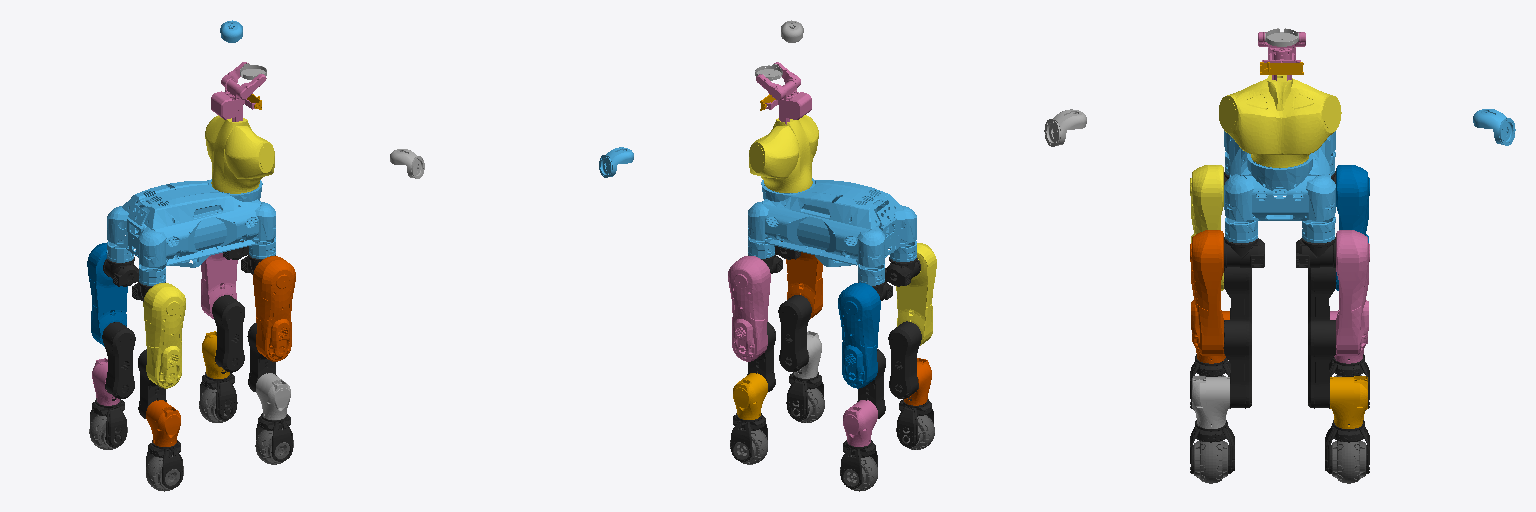
--- What the picture shows (computed from the rendered views, not written in the file) ---
3 views of the same robot in one strip: view 1: azimuth 30°, elevation 25°; view 2: azimuth 150°, elevation 25°; view 3: azimuth 270°, elevation 25° (orthographic).
Robot: centauro — 64 links, 63 joints (39 revolute, 4 continuous, 3 prismatic, 16 fixed, 1 floating); root link world; default pose: joints at zero except 2 at the middle of their limits (j_arm1_2 = 1.73, j_arm2_2 = -1.72).
Links seen in each view (by area): view 1: pelvis, torso_2, hip2_2, hip2_4, hip2_3, knee_1, knee_3, hip2_1, neck_1, ankle1_4, ankle1_2, ankle2_3 (+13 smaller); view 2: pelvis, torso_2, hip2_3, hip2_1, hip2_4, knee_4, knee_2, hip2_2, neck_1, ankle1_3, ankle1_1, ankle2_4 (+13 smaller); view 3: pelvis, torso_2, hip2_1, hip2_2, knee_1, knee_2, hip2_3, hip2_4, ankle1_1, ankle1_2, wheel_1, wheel_2 (+12 smaller).
Boxes of the visible links, box(x1,y1,x2,y2) form: pelvis: box(107, 179, 275, 285); torso_2: box(205, 115, 274, 193); hip2_2: box(253, 256, 295, 361); hip2_4: box(143, 283, 185, 388); hip2_3: box(87, 243, 127, 346); knee_1: box(212, 295, 244, 372); knee_3: box(102, 322, 135, 398); hip2_1: box(201, 253, 237, 318); neck_1: box(211, 62, 266, 121); ankle1_4: box(146, 400, 180, 446); ankle1_2: box(256, 373, 290, 419); ankle2_3: box(90, 397, 126, 447); pelvis: box(748, 178, 916, 285); torso_2: box(749, 115, 818, 192); hip2_3: box(838, 282, 880, 388); hip2_1: box(728, 256, 770, 361); hip2_4: box(896, 243, 936, 345); knee_4: box(888, 321, 921, 398); knee_2: box(778, 295, 811, 371); hip2_2: box(786, 252, 822, 318); neck_1: box(756, 62, 811, 124); ankle1_3: box(843, 400, 877, 446); ankle1_1: box(733, 373, 767, 419); ankle2_4: box(897, 397, 933, 447); pelvis: box(1224, 131, 1335, 242); torso_2: box(1219, 75, 1341, 167); hip2_1: box(1336, 230, 1369, 355); hip2_2: box(1190, 230, 1223, 355); knee_1: box(1308, 320, 1335, 408); knee_2: box(1224, 320, 1251, 408); hip2_3: box(1336, 165, 1369, 290); hip2_4: box(1190, 165, 1223, 290); ankle1_1: box(1330, 376, 1367, 428); ankle1_2: box(1192, 376, 1229, 428); wheel_1: box(1332, 441, 1365, 483); wheel_2: box(1194, 441, 1227, 483).
Bounding box of the posed robot: 0.9762 × 1.52 × 1.62 m (x, y, z).
31 mesh visuals loaded from 21 distinct referenced files (12 binary STL); not drawn: 15 (reference not matched to a file when rendering).

robot.urdf — centauro:
<?xml version="1.0" ?>
<robot name="centauro" version="1.0">
  <material name="black">
    <color rgba="0.4 0.4 0.4 1.0"/>
  </material>
  <material name="dark">
    <color rgba="0.1 0.1 0.1 1.0"/>
  </material>
  <material name="dark_grey">
    <color rgba="0.2 0.2 0.2 1.0"/>
  </material>
  <link name="base_link"/>
  <link name="pelvis">
    <inertial>
      <origin xyz="-0.0016320207 0.0026534004000000003 0.079167428" rpy="0 0 0"/>
      <mass value="26.584529"/>
      <inertia ixx="0.39195477" ixy="0.024781258999999996" ixz="0.017108606999999998" iyy="1.0000708999999999" iyz="0.0052627106000000005" izz="1.0679988999999999"/>
    </inertial>
    <visual>
      <origin xyz="0.0 0.0 0.0" rpy="0.0 0.0 0.0"/>
      <geometry>
        <mesh filename="package://centauro_urdf/meshes/v2/pelvis.stl" scale="0.001 0.001 0.001"/>
      </geometry>
    </visual>
    <collision>
      <origin xyz="-0.005084999999999992 2.00284e-07 0.03057945" rpy="3.141584708121066 1.5478729636744712 3.14158452386424"/>
      <geometry>
        <cylinder radius="0.213204" length="0.38594139791384763"/>
      </geometry>
    </collision>
    <collision>
      <origin xyz="-0.198005 0.000000 0.035003" rpy="3.141584708121066 1.5478729636744712 3.14158452386424"/>
      <geometry>
        <sphere radius="0.213204"/>
      </geometry>
    </collision>
    <collision>
      <origin xyz="0.187835 0.000000 0.026156" rpy="3.141584708121066 1.5478729636744712 3.14158452386424"/>
      <geometry>
        <sphere radius="0.213204"/>
      </geometry>
    </collision>
  </link>
  <link name="imu_link"/>
  <joint name="imu_joint" type="fixed">
    <origin xyz="0.248316 0.0 0.015" rpy="0.0 0.0 0.0"/>
    <parent link="pelvis"/>
    <child link="imu_link"/>
  </joint>
  <joint name="base_joint" type="fixed">
    <origin xyz="0.0 0.0 0.0" rpy="0.0 0.0 0.0"/>
    <parent link="pelvis"/>
    <child link="base_link"/>
  </joint>
  <link name="torso_2">
    <inertial>
      <origin xyz="-0.019497794 0.0045317835 0.13768283" rpy="0 0 0"/>
      <mass value="12.553731"/>
      <inertia ixx="0.063643392" ixy="8.939e-05" ixz="-0.00086873" iyy="0.02680235" iyz="-4.657e-05" izz="0.04743015"/>
    </inertial>
    <visual>
      <origin xyz="0.0 0.0 0.0" rpy="0.0 0.0 0.0"/>
      <geometry>
        <mesh filename="package://centauro_urdf/meshes/link1_no_head.stl" scale="0.001 0.001 0.001"/>
      </geometry>
    </visual>
    <collision>
      <origin xyz="-3.2165000000000015e-05 9.785000000000002e-05 0.07465275" rpy="1.5666391113102787 -0.01588146658428072 -0.0158155835137567"/>
      <geometry>
        <cylinder radius="0.158224" length="0.09543675990850982"/>
      </geometry>
    </collision>
    <collision>
      <origin xyz="0.000726 0.047810 0.074454" rpy="1.5666391113102787 -0.01588146658428072 -0.0158155835137567"/>
      <geometry>
        <sphere radius="0.158224"/>
      </geometry>
    </collision>
    <collision>
      <origin xyz="-0.000790 -0.047614 0.074851" rpy="1.5666391113102787 -0.01588146658428072 -0.0158155835137567"/>
      <geometry>
        <sphere radius="0.158224"/>
      </geometry>
    </collision>
  </link>
  <joint name="torso_yaw" type="revolute">
    <origin xyz="0.2 0.0 0.256" rpy="0 0 0"/>
    <axis xyz="0.0 0.0 1.0"/>
    <parent link="pelvis"/>
    <child link="torso_2"/>
    <limit effort="147.0" lower="-2.618" upper="2.618" velocity="5.7"/>
  </joint>
  <link name="arm1_1">
    <inertial>
      <origin xyz="-0.0074457212 0.03410796 0.00010978102" rpy="0 0 0"/>
      <mass value="1.9628675"/>
      <inertia ixx="0.0053547717" ixy="0.00036428926" ixz="1.5089568e-05" iyy="0.0033923328" iyz="5.5692312e-05" izz="0.0068921413"/>
    </inertial>
    <visual>
      <origin xyz="0.0 0.0 0.0" rpy="0.0 0.0 0.0"/>
      <geometry>
        <mesh filename="package://centauro_urdf/meshes/ShoulderPitch.STL" scale="0.001 -0.001 0.001"/>
      </geometry>
      <material name="dark_grey"/>
    </visual>
    <collision>
      <origin xyz="0.017831411999999998 0.05324115 2.3169000000000008e-05" rpy="-1.6903347176271586 1.4526491831510902 -1.5721974565036339"/>
      <geometry>
        <cylinder radius="0.0698859" length="0.03739768494560427"/>
      </geometry>
    </collision>
    <collision>
      <origin xyz="-0.000737 0.051053 0.000286" rpy="-1.6903347176271586 1.4526491831510902 -1.5721974565036339"/>
      <geometry>
        <sphere radius="0.0698859"/>
      </geometry>
    </collision>
    <collision>
      <origin xyz="0.036400 0.055429 -0.000240" rpy="-1.6903347176271586 1.4526491831510902 -1.5721974565036339"/>
      <geometry>
        <sphere radius="0.0698859"/>
      </geometry>
    </collision>
  </link>
  <link name="arm1_2">
    <inertial>
      <origin xyz="0.058142302 5.7450803e-05 -0.077477683" rpy="0 0 0"/>
      <mass value="1.8595811"/>
      <inertia ixx="0.013776643" ixy="3.7788675e-05" ixz="0.0037690171" iyy="0.015677464" iyz="-9.4893549e-06" izz="0.0046317657"/>
    </inertial>
    <visual>
      <origin xyz="0.0 0.0 0.0" rpy="0.0 0.0 0.0"/>
      <geometry>
        <mesh filename="package://centauro_urdf/meshes/ShoulderRoll.STL" scale="0.001 -0.001 0.001"/>
      </geometry>
    </visual>
    <collision>
      <origin xyz="0.0637382 4.0379999999999995e-07 -0.064359175" rpy="3.141581408692036 0.43013736369295724 3.141541177080914"/>
      <geometry>
        <cylinder radius="0.0700645" length="0.12799269981445732"/>
      </geometry>
    </collision>
    <collision>
      <origin xyz="0.037052 0.000001 -0.006192" rpy="3.141581408692036 0.43013736369295724 3.141541177080914"/>
      <geometry>
        <sphere radius="0.0700645"/>
      </geometry>
    </collision>
    <collision>
      <origin xyz="0.090424 -0.000000 -0.122526" rpy="3.141581408692036 0.43013736369295724 3.141541177080914"/>
      <geometry>
        <sphere radius="0.0700645"/>
      </geometry>
    </collision>
  </link>
  <link name="arm1_3">
    <inertial>
      <origin xyz="0.014625194 0.0008172672 -0.028333545" rpy="0 0 0"/>
      <mass value="1.6678109"/>
      <inertia ixx="0.0064480435" ixy="-0.00015639093" ixz="0.0012205359" iyy="0.0073372077" iyz="8.9941532e-05" izz="0.0036738448"/>
    </inertial>
    <visual>
      <origin xyz="0.0 0.0 0.0" rpy="0.0 0.0 0.0"/>
      <geometry>
        <mesh filename="package://centauro_urdf/meshes/ShoulderYaw.STL" scale="0.001 -0.001 0.001"/>
      </geometry>
      <material name="dark_grey"/>
    </visual>
    <collision>
      <origin xyz="0.0073075385949999995 -0.0040911384949999996 -0.03662884" rpy="3.0024238046134086 0.2429098209130052 2.103907539504161"/>
      <geometry>
        <cylinder radius="0.0896121" length="0.06082252644344949"/>
      </geometry>
    </collision>
    <collision>
      <origin xyz="-0.000007 0.000004 -0.007396" rpy="3.0024238046134086 0.2429098209130052 2.103907539504161"/>
      <geometry>
        <sphere radius="0.0896121"/>
      </geometry>
    </collision>
    <collision>
      <origin xyz="0.014622 -0.008186 -0.065862" rpy="3.0024238046134086 0.2429098209130052 2.103907539504161"/>
      <geometry>
        <sphere radius="0.0896121"/>
      </geometry>
    </collision>
  </link>
  <link name="arm1_4">
    <inertial>
      <origin xyz="-0.0076833067 -0.040302205 -0.043492779" rpy="0 0 0"/>
      <mass value="1.3157289"/>
      <inertia ixx="0.004330394" ixy="-0.00011737391" ixz="-0.00041923199" iyy="0.0038539919" iyz="-0.00079573038" izz="0.0017594689"/>
    </inertial>
    <visual>
      <origin xyz="0.0 0.0 0.0" rpy="0.0 0.0 0.0"/>
      <geometry>
        <mesh filename="package://centauro_urdf/meshes/Elbow.STL" scale="0.001 -0.001 0.001"/>
      </geometry>
    </visual>
    <collision>
      <origin xyz="-0.00746020465 -0.0408499 -0.0404292381" rpy="-0.33854605247629793 0.17337814940326016 -0.029704070188628324"/>
      <geometry>
        <cylinder radius="0.0600429" length="0.08713418572944408"/>
      </geometry>
    </collision>
    <collision>
      <origin xyz="-0.014976 -0.055102 -0.080907" rpy="-0.33854605247629793 0.17337814940326016 -0.029704070188628324"/>
      <geometry>
        <sphere radius="0.0600429"/>
      </geometry>
    </collision>
    <collision>
      <origin xyz="0.000056 -0.026598 0.000049" rpy="-0.33854605247629793 0.17337814940326016 -0.029704070188628324"/>
      <geometry>
        <sphere radius="0.0600429"/>
      </geometry>
    </collision>
  </link>
  <link name="arm1_5">
    <inertial>
      <origin xyz="-0.00011079615 0.011590836 -0.07816026" rpy="0 0 0"/>
      <mass value="1.4908547"/>
      <inertia ixx="0.0085692128" ixy="1.7856252e-05" ixz="1.9379365e-05" iyy="0.0077454159" iyz="-0.00032860094" izz="0.0027441921"/>
    </inertial>
    <visual>
      <origin xyz="0.0 0.0 0.0" rpy="0.0 0.0 0.0"/>
      <geometry>
        <mesh filename="package://centauro_urdf/meshes/Forearm.STL" scale="0.001 -0.001 0.001"/>
      </geometry>
      <material name="dark_grey"/>
    </visual>
    <collision>
      <origin xyz="-3.7982785e-06 0.00576208 -0.08227100000000001" rpy="-0.1950499967900825 0.00010897079569875528 -1.0661198134352675e-05"/>
      <geometry>
        <cylinder radius="0.0804108" length="0.08434739747702645"/>
      </geometry>
    </collision>
    <collision>
      <origin xyz="-0.000008 -0.002412 -0.123645" rpy="-0.1950499967900825 0.00010897079569875528 -1.0661198134352675e-05"/>
      <geometry>
        <sphere radius="0.0804108"/>
      </geometry>
    </collision>
    <collision>
      <origin xyz="0.000001 0.013936 -0.040897" rpy="-0.1950499967900825 0.00010897079569875528 -1.0661198134352675e-05"/>
      <geometry>
        <sphere radius="0.0804108"/>
      </geometry>
    </collision>
  </link>
  <link name="arm1_6">
    <inertial>
      <origin xyz="-4.6502396e-06 -0.038014094 -0.069926878" rpy="0 0 0"/>
      <mass value="1.1263612"/>
      <inertia ixx="0.0051871784" ixy="2.724437e-05" ixz="2.2833496e-06" iyy="0.0048037789" iyz="-0.00072165653" izz="0.0012771388"/>
    </inertial>
    <visual>
      <origin xyz="0.0 0.0 0.0" rpy="0.0 0.0 0.0"/>
      <geometry>
        <mesh filename="package://centauro_urdf/meshes/wrist_pitch_right.stl" scale="0.001 -0.001 0.001"/>
      </geometry>
    </visual>
    <collision>
      <origin xyz="-0.0007855109 -0.028511995000000002 -0.03192399" rpy="-0.5594293097385409 -0.02095499521275571 0.006019428316027259"/>
      <geometry>
        <cylinder radius="0.0474698" length="0.07750977987441161"/>
      </geometry>
    </collision>
    <collision>
      <origin xyz="0.000027 -0.049075 -0.064764" rpy="-0.5594293097385409 -0.02095499521275571 0.006019428316027259"/>
      <geometry>
        <sphere radius="0.0474698"/>
      </geometry>
    </collision>
    <collision>
      <origin xyz="-0.001598 -0.007949 0.000916" rpy="-0.5594293097385409 -0.02095499521275571 0.006019428316027259"/>
      <geometry>
        <sphere radius="0.0474698"/>
      </geometry>
    </collision>
  </link>
  <joint name="j_arm1_1" type="revolute">
    <origin xyz="0.0457475 0.169137 0.116626" rpy="0.174533 0.0 -0.5235988"/>
    <axis xyz="0.0 1.0 0.0"/>
    <parent link="torso_2"/>
    <child link="arm1_1"/>
    <limit effort="147.0" lower="-3.312" upper="1.615" velocity="3.86"/>
  </joint>
  <joint name="j_arm1_2" type="revolute">
    <origin xyz="-0.09015 0.062 0.0" rpy="-0.1745327 0.0 0.0"/>
    <axis xyz="1.0 0.0 0.0"/>
    <parent link="arm1_1"/>
    <child link="arm1_2"/>
    <limit effort="147.0" lower="0.02" upper="3.431" velocity="3.86"/>
  </joint>
  <joint name="j_arm1_3" type="revolute">
    <origin xyz="0.09015 0.0 -0.21815" rpy="0 0 0"/>
    <axis xyz="0.0 0.0 1.0"/>
    <parent link="arm1_2"/>
    <child link="arm1_3"/>
    <limit effort="147.0" lower="-2.552" upper="2.566" velocity="6.06"/>
  </joint>
  <joint name="j_arm1_4" type="revolute">
    <origin xyz="0.045 0.05515 -0.074" rpy="0 0 0"/>
    <axis xyz="0.0 1.0 0.0"/>
    <parent link="arm1_3"/>
    <child link="arm1_4"/>
    <limit effort="147.0" lower="-2.465" upper="0.28" velocity="6.06"/>
  </joint>
  <joint name="j_arm1_5" type="revolute">
    <origin xyz="-0.015 -0.05515 -0.095" rpy="0 0 0"/>
    <axis xyz="0.0 0.0 1.0"/>
    <parent link="arm1_4"/>
    <child link="arm1_5"/>
    <limit effort="55.0" lower="-2.569" upper="2.562" velocity="11.72"/>
  </joint>
  <joint name="j_arm1_6" type="revolute">
    <origin xyz="0.0 0.049 -0.156" rpy="0 0 0"/>
    <axis xyz="0.0 1.0 0.0"/>
    <parent link="arm1_5"/>
    <child link="arm1_6"/>
    <limit effort="55.0" lower="-1.529" upper="1.509" velocity="11.72"/>
  </joint>
  <link name="arm2_1">
    <inertial>
      <origin xyz="-0.0074457212 -0.03410796 0.00010978102" rpy="0 0 0"/>
      <mass value="1.9628675"/>
      <inertia ixx="0.0053547717" ixy="-0.00036428926" ixz="1.5089568e-05" iyy="0.0033923328" iyz="-5.5692312e-05" izz="0.0068921413"/>
    </inertial>
    <visual>
      <origin xyz="0.0 0.0 0.0" rpy="0.0 0.0 0.0"/>
      <geometry>
        <mesh filename="package://centauro_urdf/meshes/ShoulderPitch.STL" scale="0.001 0.001 0.001"/>
      </geometry>
      <material name="dark_grey"/>
    </visual>
    <collision>
      <origin xyz="0.017831411999999998 -0.05324115 2.3169000000000008e-05" rpy="1.6903347176271586 1.4526491831510902 1.5721974565036339"/>
      <geometry>
        <cylinder radius="0.0698859" length="0.03739768494560427"/>
      </geometry>
    </collision>
    <collision>
      <origin xyz="-0.000737 -0.051053 0.000286" rpy="1.6903347176271586 1.4526491831510902 1.5721974565036339"/>
      <geometry>
        <sphere radius="0.0698859"/>
      </geometry>
    </collision>
    <collision>
      <origin xyz="0.036400 -0.055429 -0.000240" rpy="1.6903347176271586 1.4526491831510902 1.5721974565036339"/>
      <geometry>
        <sphere radius="0.0698859"/>
      </geometry>
    </collision>
  </link>
  <link name="arm2_2">
    <inertial>
      <origin xyz="0.058142302 -5.7450803e-05 -0.077477683" rpy="0 0 0"/>
      <mass value="1.8595811"/>
      <inertia ixx="0.013776643" ixy="-3.7788675e-05" ixz="0.0037690171" iyy="0.015677464" iyz="9.4893549e-06" izz="0.0046317657"/>
    </inertial>
    <visual>
      <origin xyz="0.0 0.0 0.0" rpy="0.0 0.0 0.0"/>
      <geometry>
        <mesh filename="package://centauro_urdf/meshes/ShoulderRoll.STL" scale="0.001 0.001 0.001"/>
      </geometry>
    </visual>
    <collision>
      <origin xyz="0.0637382 -4.0379999999999995e-07 -0.064359175" rpy="-3.141581408692036 0.43013736369295724 -3.141541177080914"/>
      <geometry>
        <cylinder radius="0.0700645" length="0.12799269981445732"/>
      </geometry>
    </collision>
    <collision>
      <origin xyz="0.037052 -0.000001 -0.006192" rpy="-3.141581408692036 0.43013736369295724 -3.141541177080914"/>
      <geometry>
        <sphere radius="0.0700645"/>
      </geometry>
    </collision>
    <collision>
      <origin xyz="0.090424 0.000000 -0.122526" rpy="-3.141581408692036 0.43013736369295724 -3.141541177080914"/>
      <geometry>
        <sphere radius="0.0700645"/>
      </geometry>
    </collision>
  </link>
  <link name="arm2_3">
    <inertial>
      <origin xyz="0.014625194 -0.0008172672 -0.028333545" rpy="0 0 0"/>
      <mass value="1.6678109"/>
      <inertia ixx="0.0064480435" ixy="0.00015639093" ixz="0.0012205359" iyy="0.0073372077" iyz="-8.9941532e-05" izz="0.0036738448"/>
    </inertial>
    <visual>
      <origin xyz="0.0 0.0 0.0" rpy="0.0 0.0 0.0"/>
      <geometry>
        <mesh filename="package://centauro_urdf/meshes/ShoulderYaw.STL" scale="0.001 0.001 0.001"/>
      </geometry>
      <material name="dark_grey"/>
    </visual>
    <collision>
      <origin xyz="0.0073075385949999995 0.0040911384949999996 -0.03662884" rpy="-3.0024238046134086 0.2429098209130052 -2.103907539504161"/>
      <geometry>
        <cylinder radius="0.0896121" length="0.06082252644344949"/>
      </geometry>
    </collision>
    <collision>
      <origin xyz="-0.000007 -0.000004 -0.007396" rpy="-3.0024238046134086 0.2429098209130052 -2.103907539504161"/>
      <geometry>
        <sphere radius="0.0896121"/>
      </geometry>
    </collision>
    <collision>
      <origin xyz="0.014622 0.008186 -0.065862" rpy="-3.0024238046134086 0.2429098209130052 -2.103907539504161"/>
      <geometry>
        <sphere radius="0.0896121"/>
      </geometry>
    </collision>
  </link>
  <link name="arm2_4">
    <inertial>
      <origin xyz="-0.0076833067 0.040302205 -0.043492779" rpy="0 0 0"/>
      <mass value="1.3157289"/>
      <inertia ixx="0.004330394" ixy="0.00011737391" ixz="-0.00041923199" iyy="0.0038539919" iyz="0.00079573038" izz="0.0017594689"/>
    </inertial>
    <visual>
      <origin xyz="0.0 0.0 0.0" rpy="0.0 0.0 0.0"/>
      <geometry>
        <mesh filename="package://centauro_urdf/meshes/Elbow.STL" scale="0.001 0.001 0.001"/>
      </geometry>
    </visual>
    <collision>
      <origin xyz="-0.00746020465 0.0408499 -0.0404292381" rpy="0.33854605247629793 0.17337814940326016 0.029704070188628324"/>
      <geometry>
        <cylinder radius="0.0600429" length="0.08713418572944408"/>
      </geometry>
    </collision>
    <collision>
      <origin xyz="-0.014976 0.055102 -0.080907" rpy="0.33854605247629793 0.17337814940326016 0.029704070188628324"/>
      <geometry>
        <sphere radius="0.0600429"/>
      </geometry>
    </collision>
    <collision>
      <origin xyz="0.000056 0.026598 0.000049" rpy="0.33854605247629793 0.17337814940326016 0.029704070188628324"/>
      <geometry>
        <sphere radius="0.0600429"/>
      </geometry>
    </collision>
  </link>
  <link name="arm2_5">
    <inertial>
      <origin xyz="-0.00011079615 -0.011590836 -0.07816026" rpy="0 0 0"/>
      <mass value="1.4908547"/>
      <inertia ixx="0.0085692128" ixy="-1.7856252e-05" ixz="1.9379365e-05" iyy="0.0077454159" iyz="0.00032860094" izz="0.0027441921"/>
    </inertial>
    <visual>
      <origin xyz="0.0 0.0 0.0" rpy="0.0 0.0 0.0"/>
      <geometry>
        <mesh filename="package://centauro_urdf/meshes/Forearm.STL" scale="0.001 0.001 0.001"/>
      </geometry>
      <material name="dark_grey"/>
    </visual>
    <collision>
      <origin xyz="-3.7982785e-06 -0.00576208 -0.08227100000000001" rpy="0.1950499967900825 0.00010897079569875528 1.0661198134352675e-05"/>
      <geometry>
        <cylinder radius="0.0804108" length="0.08434739747702645"/>
      </geometry>
    </collision>
    <collision>
      <origin xyz="-0.000008 0.002412 -0.123645" rpy="0.1950499967900825 0.00010897079569875528 1.0661198134352675e-05"/>
      <geometry>
        <sphere radius="0.0804108"/>
      </geometry>
    </collision>
    <collision>
      <origin xyz="0.000001 -0.013936 -0.040897" rpy="0.1950499967900825 0.00010897079569875528 1.0661198134352675e-05"/>
      <geometry>
        <sphere radius="0.0804108"/>
      </geometry>
    </collision>
  </link>
  <link name="arm2_6">
    <inertial>
      <origin xyz="-4.6502396e-06 0.038014094 -0.069926878" rpy="0 0 0"/>
      <mass value="1.1263612"/>
      <inertia ixx="0.0051871784" ixy="-2.724437e-05" ixz="2.2833496e-06" iyy="0.0048037789" iyz="0.00072165653" izz="0.0012771388"/>
    </inertial>
    <visual>
      <origin xyz="0.0 0.0 0.0" rpy="0.0 0.0 0.0"/>
      <geometry>
        <mesh filename="package://centauro_urdf/meshes/wrist_pitch_right.stl" scale="0.001 0.001 0.001"/>
      </geometry>
    </visual>
    <collision>
      <origin xyz="-0.0007855109 0.028511995000000002 -0.03192399" rpy="0.5594293097385409 -0.02095499521275571 -0.006019428316027259"/>
      <geometry>
        <cylinder radius="0.0474698" length="0.07750977987441161"/>
      </geometry>
    </collision>
    <collision>
      <origin xyz="0.000027 0.049075 -0.064764" rpy="0.5594293097385409 -0.02095499521275571 -0.006019428316027259"/>
      <geometry>
        <sphere radius="0.0474698"/>
      </geometry>
    </collision>
    <collision>
      <origin xyz="-0.001598 0.007949 0.000916" rpy="0.5594293097385409 -0.02095499521275571 -0.006019428316027259"/>
      <geometry>
        <sphere radius="0.0474698"/>
      </geometry>
    </collision>
  </link>
  <joint name="j_arm2_1" type="revolute">
    <origin xyz="0.0457475 -0.169137 0.116626" rpy="-0.174533 0.0 0.5235988"/>
    <axis xyz="0.0 1.0 0.0"/>
    <parent link="torso_2"/>
    <child link="arm2_1"/>
    <limit effort="147.0" lower="-3.3458" upper="1.6012" velocity="3.86"/>
  </joint>
  <joint name="j_arm2_2" type="revolute">
    <origin xyz="-0.09015 -0.062 0.0" rpy="0.1745327 0.0 0.0"/>
    <axis xyz="1.0 0.0 0.0"/>
    <parent link="arm2_1"/>
    <child link="arm2_2"/>
    <limit effort="147.0" lower="-3.4258" upper="-0.0138" velocity="3.86"/>
  </joint>
  <joint name="j_arm2_3" type="revolute">
    <origin xyz="0.09015 0.0 -0.21815" rpy="0 0 0"/>
    <axis xyz="0.0 0.0 1.0"/>
    <parent link="arm2_2"/>
    <child link="arm2_3"/>
    <limit effort="147.0" lower="-2.5614" upper="2.5606" velocity="6.06"/>
  </joint>
  <joint name="j_arm2_4" type="revolute">
    <origin xyz="0.045 -0.05515 -0.074" rpy="0 0 0"/>
    <axis xyz="0.0 1.0 0.0"/>
    <parent link="arm2_3"/>
    <child link="arm2_4"/>
    <limit effort="147.0" lower="-2.4794" upper="0.2886" velocity="6.06"/>
  </joint>
  <joint name="j_arm2_5" type="revolute">
    <origin xyz="-0.015 0.05515 -0.095" rpy="0 0 0"/>
    <axis xyz="0.0 0.0 1.0"/>
    <parent link="arm2_4"/>
    <child link="arm2_5"/>
    <limit effort="55.0" lower="-2.5394" upper="2.5546" velocity="11.72"/>
  </joint>
  <joint name="j_arm2_6" type="revolute">
    <origin xyz="0.0 -0.049 -0.156" rpy="0 0 0"/>
    <axis xyz="0.0 1.0 0.0"/>
    <parent link="arm2_5"/>
    <child link="arm2_6"/>
    <limit effort="55.0" lower="-1.5154" upper="1.5156" velocity="11.72"/>
  </joint>
  <link name="ball1">
    <inertial>
      <origin xyz="-1.0072498e-05 3.7590658e-05 0.019772332" rpy="0.0 0.0 0.0"/>
      <mass value="1.27"/>
      <inertia ixx="0.0023061092" ixy="2.9181758e-07" ixz="-2.1246683999999997e-07" iyy="0.0023053155000000002" iyz="7.9290978e-07" izz="0.0030675615999999997"/>
    </inertial>
    <visual>
      <origin xyz="0.0 0.0 0.0" rpy="0.0 0.0 0.0"/>
      <geometry>
        <mesh filename="package://centauro_urdf/meshes/BallHand.stl" scale="0.001 0.001 0.001"/>
      </geometry>
      <material name="dark_grey"/>
    </visual>
    <collision>
      <origin xyz="-2.6819999999999855e-07 1.2015000000000003e-06 -0.0105021" rpy="-1.5654390438571615 -1.1857782102348717 1.1808181135942444"/>
      <geometry>
        <cylinder radius="0.0709883" length="9.940076835940455e-05"/>
      </geometry>
    </collision>
    <collision>
      <origin xyz="0.000046 -0.000017 -0.010502" rpy="-1.5654390438571615 -1.1857782102348717 1.1808181135942444"/>
      <geometry>
        <sphere radius="0.0709883"/>
      </geometry>
    </collision>
    <collision>
      <origin xyz="-0.000046 0.000020 -0.010502" rpy="-1.5654390438571615 -1.1857782102348717 1.1808181135942444"/>
      <geometry>
        <sphere radius="0.0709883"/>
      </geometry>
    </collision>
  </link>
  <link name="ball1_tip"/>
  <joint name="j_arm1_8" type="fixed">
    <origin xyz="0.0 -0.05 -0.105" rpy="0.0 0.0 0.0"/>
    <parent link="arm1_6"/>
    <child link="ball1"/>
  </joint>
  <joint name="j_ball1_tip" type="fixed">
    <origin xyz="0.0 0.0 -0.07" rpy="0.0 0.0 0.0"/>
    <parent link="ball1"/>
    <child link="ball1_tip"/>
  </joint>
  <joint name="j_ball1_fixed" type="fixed">
    <parent link="ball1"/>
    <child link="arm1_8"/>
  </joint>
  <link name="arm1_8">
    <inertial>
      <mass value="0.0"/>
      <inertia ixx="0.0" ixy="0.0" ixz="0.0" iyy="0.0" iyz="0.0" izz="0.0"/>
    </inertial>
  </link>
  <joint name="dagana_2_mount_joint" type="fixed">
    <origin xyz="0.0 0.05 -0.08" rpy="0.0 3.14159265359 3.14159265359"/>
    <parent link="arm2_6"/>
    <child link="dagana_2_top_link"/>
  </joint>
  <link name="dagana_2_top_link">
    <inertial>
      <origin xyz="-0.0063562154 -0.0060265532000000005 0.060068288000000004" rpy="0.0 0.0 0.0"/>
      <mass value="1.74324"/>
      <inertia ixx="0.0050510328" ixy="-0.00025264216" ixz="-0.00012103013" iyy="0.0047944612" iyz="-0.00073917704" izz="0.0031156997"/>
    </inertial>
    <visual>
      <origin xyz="0.0 0.0 0.0" rpy="0.0 0.0 0.0"/>
      <geometry>
        <mesh filename="package://dagana_urdf/meshes/dg0001-simplified.stl" scale="0.001 0.001 0.001"/>
      </geometry>
      <material name="dark_grey"/>
    </visual>
    <collision>
      <origin xyz="-0.000122827 -0.0012617600000000002 0.09111949999999999" rpy="3.0401469956240503 -0.00022380626154906884 -0.004408546116587804"/>
      <geometry>
        <cylinder radius="0.0760764" length="0.10212404260993166"/>
      </geometry>
    </collision>
    <collision>
      <origin xyz="-0.000111 0.003909 0.141919" rpy="3.0401469956240503 -0.00022380626154906884 -0.004408546116587804"/>
      <geometry>
        <sphere radius="0.0760764"/>
      </geometry>
    </collision>
    <collision>
      <origin xyz="-0.000134 -0.006433 0.040320" rpy="3.0401469956240503 -0.00022380626154906884 -0.004408546116587804"/>
      <geometry>
        <sphere radius="0.0760764"/>
      </geometry>
    </collision>
  </link>
  <joint name="dagana_2_claw_joint" type="revolute">
    <origin xyz="0.0 -0.028 0.05025" rpy="1.57079632679 0.0 3.14159265359"/>
    <axis xyz="0.0 0.0 1.0"/>
    <parent link="dagana_2_top_link"/>
    <child link="dagana_2_bottom_link"/>
    <limit effort="1000" lower="0" upper="1" velocity="2.0"/>
  </joint>
  <link name="dagana_2_bottom_link">
    <inertial>
      <origin xyz="0.069644767 0.0026548329 -0.041960263" rpy="0.0 0.0 0.0"/>
      <mass value="0.46117745"/>
      <inertia ixx="0.0009385556899999999" ixy="-0.000264452" ixz="7.134683e-05" iyy="0.0019472731" iyz="2.529065e-06" izz="0.0014726990999999999"/>
    </inertial>
    <visual>
      <origin xyz="0.0 0.0 0.0" rpy="0.0 0.0 0.0"/>
      <geometry>
        <mesh filename="package://dagana_urdf/meshes/dg0002.stl" scale="0.001 0.001 0.001"/>
      </geometry>
      <material name="dark_grey"/>
    </visual>
    <collision>
      <origin xyz="-0.000557338 0.06060969 0.00269066" rpy="-1.5078975982532556 -0.0008422964943385845 0.0007909160627971824"/>
      <geometry>
        <cylinder radius="0.0618624" length="0.11781363498578913"/>
      </geometry>
    </collision>
    <collision>
      <origin xyz="-0.000508 0.001819 -0.001012" rpy="-1.5078975982532556 -0.0008422964943385845 0.0007909160627971824"/>
      <geometry>
        <sphere radius="0.0618624"/>
      </geometry>
    </collision>
    <collision>
      <origin xyz="-0.000607 0.119400 0.006393" rpy="-1.5078975982532556 -0.0008422964943385845 0.0007909160627971824"/>
      <geometry>
        <sphere radius="0.0618624"/>
      </geometry>
    </collision>
  </link>
  <joint name="j_arm2_8" type="fixed">
    <parent link="dagana_2_top_link"/>
    <child link="arm2_8"/>
  </joint>
  <link name="arm2_8"/>
  <link name="neck_1">
    <inertial>
      <origin xyz="0.0 0.0 0.0" rpy="0 0 0"/>
      <mass value="0.33878686"/>
      <inertia ixx="0.0003718568" ixy="-9.42983e-05" ixz="-2.80644e-05" iyy="0.0001886879" iyz="-1.54534e-05" izz="0.0005023443"/>
    </inertial>
    <visual>
      <origin xyz="0.0 0.0 0.0" rpy="0.0 0.0 0.0"/>
      <geometry>
        <mesh filename="package://centauro_urdf/meshes/head-base_mesh.stl" scale="0.001 0.001 0.001"/>
      </geometry>
    </visual>
    <collision>
      <origin xyz="0.006498149999999998 -1.4782499999999998e-06 0.1544216" rpy="0.00021616021402232196 0.3728341899733125 4.076931979237498e-05"/>
      <geometry>
        <cylinder radius="0.100414" length="0.16454098025546557"/>
      </geometry>
    </collision>
    <collision>
      <origin xyz="-0.023469 0.000015 0.077803" rpy="0.00021616021402232196 0.3728341899733125 4.076931979237498e-05"/>
      <geometry>
        <sphere radius="0.100414"/>
      </geometry>
    </collision>
    <collision>
      <origin xyz="0.036466 -0.000018 0.231040" rpy="0.00021616021402232196 0.3728341899733125 4.076931979237498e-05"/>
      <geometry>
        <sphere radius="0.100414"/>
      </geometry>
    </collision>
  </link>
  <link name="velodyne_motor">
    <inertial>
      <origin xyz="0.0 0.0 0.0" rpy="0 0 0"/>
      <mass value="0.33878686"/>
      <inertia ixx="0.0003718568" ixy="-9.42983e-05" ixz="-2.80644e-05" iyy="0.0001886879" iyz="-1.54534e-05" izz="0.0005023443"/>
    </inertial>
    <visual>
      <origin xyz="0.0 0.0 0.0" rpy="0.0 0.0 0.0"/>
      <geometry>
        <mesh filename="package://centauro_urdf/meshes/lidar_mesh.stl" scale="0.001 0.001 0.001"/>
      </geometry>
    </visual>
    <collision>
      <origin xyz="-0.0007438725 0.005083050000000001 0.008359974999999999" rpy="-1.5617654568599377 -0.08162793425341344 0.08089487547525437"/>
      <geometry>
        <cylinder radius="0.0544637" length="0.032463112134515464"/>
      </geometry>
    </collision>
    <collision>
      <origin xyz="0.000580 -0.011094 0.008214" rpy="-1.5617654568599377 -0.08162793425341344 0.08089487547525437"/>
      <geometry>
        <sphere radius="0.0544637"/>
      </geometry>
    </collision>
    <collision>
      <origin xyz="-0.002067 0.021260 0.008506" rpy="-1.5617654568599377 -0.08162793425341344 0.08089487547525437"/>
      <geometry>
        <sphere radius="0.0544637"/>
      </geometry>
    </collision>
  </link>
  <link name="d435_head_motor">
    <inertial>
      <origin xyz="0.0 0.0 0.0" rpy="0 0 0"/>
      <mass value="0.33878686"/>
      <inertia ixx="0.0003718568" ixy="-9.42983e-05" ixz="-2.80644e-05" iyy="0.0001886879" iyz="-1.54534e-05" izz="0.0005023443"/>
    </inertial>
    <visual>
      <origin xyz="0.0 0.0 0.0" rpy="0.0 0.0 0.0"/>
      <geometry>
        <mesh filename="package://centauro_urdf/meshes/neck-pitch_mesh.stl" scale="0.001 0.001 0.001"/>
      </geometry>
    </visual>
    <collision>
      <origin xyz="0.01553645 -0.004684799999999996 0.0025092235000000003" rpy="-1.5968195967793293 0.04575443525621143 -0.04696044351276075"/>
      <geometry>
        <cylinder radius="0.0261699" length="0.12134423548428976"/>
      </geometry>
    </collision>
    <collision>
      <origin xyz="0.012761 -0.065273 0.004086" rpy="-1.5968195967793293 0.04575443525621143 -0.04696044351276075"/>
      <geometry>
        <sphere radius="0.0261699"/>
      </geometry>
    </collision>
    <collision>
      <origin xyz="0.018312 0.055903 0.000932" rpy="-1.5968195967793293 0.04575443525621143 -0.04696044351276075"/>
      <geometry>
        <sphere radius="0.0261699"/>
      </geometry>
    </collision>
  </link>
  <joint name="neck_base" type="fixed">
    <origin xyz="0.0030637045 0.0061607221 0.158" rpy="0.0 0.0 0.0"/>
    <axis xyz="0.0 0.0 1.0"/>
    <parent link="torso_2"/>
    <child link="neck_1"/>
  </joint>
  <joint name="velodyne_joint" type="revolute">
    <origin xyz="0.0822724 0.0 0.242" rpy="0.0 0.0 0.0"/>
    <axis xyz="0.0 -1.0 0.0"/>
    <parent link="neck_1"/>
    <child link="velodyne_motor"/>
    <limit effort="35.0" lower="-1.1" upper="1.1" velocity="5.7"/>
    <dynamics friction="10.0"/>
  </joint>
  <joint name="d435_head_joint" type="revolute">
    <origin xyz="0.06 0.0 0.1375" rpy="0.0 0.0 0.0"/>
    <axis xyz="0.0 -1.0 0.0"/>
    <parent link="neck_1"/>
    <child link="d435_head_motor"/>
    <limit effort="35.0" lower="-1.1" upper="1.1" velocity="5.7"/>
    <dynamics friction="10.0"/>
  </joint>
  <joint name="D435_head_camera_joint" type="fixed">
    <origin xyz="0.03015 0.0 -0.0125" rpy="0.0 0.0 0.0"/>
    <parent link="d435_head_motor"/>
    <child link="D435_head_camera_bottom_screw_frame"/>
  </joint>
  <link name="D435_head_camera_bottom_screw_frame"/>
  <joint name="D435_head_camera_link_joint" type="fixed">
    <origin xyz="0.0 0.0175 0.0125" rpy="0.0 0.0 0.0"/>
    <parent link="D435_head_camera_bottom_screw_frame"/>
    <child link="D435_head_camera_link"/>
  </joint>
  <link name="D435_head_camera_link">
    <inertial>
      <origin xyz="0.0 0.0 0.0" rpy="0 0 0"/>
      <mass value="0.564"/>
      <inertia ixx="0.003881243" ixy="0.0" ixz="0.0" iyy="0.00049894" iyz="0.0" izz="0.003879257"/>
    </inertial>
    <visual>
      <origin xyz="0.0149 -0.0175 0.0" rpy="1.570796326795 0.0 1.570796326795"/>
      <geometry>
        <mesh filename="package://centauro_urdf/meshes/realsense/d435.dae"/>
      </geometry>
      <material name="D435_head_camera_aluminum"/>
    </visual>
    <collision>
      <origin xyz="0.0 -0.0175 0.0" rpy="0.0 0.0 0.0"/>
      <geometry>
        <box size="0.02505 0.09 0.025"/>
      </geometry>
    </collision>
  </link>
  <joint name="D435i_camera_joint" type="fixed">
    <origin xyz="0.272 0.0 0.084" rpy="0.0 0.54 0.0"/>
    <parent link="pelvis"/>
    <child link="D435i_camera_bottom_screw_frame"/>
  </joint>
  <link name="D435i_camera_bottom_screw_frame"/>
  <joint name="D435i_camera_link_joint" type="fixed">
    <origin xyz="0.053 0.0 -0.035" rpy="0.0 0.005 -0.008"/>
    <parent link="D435i_camera_bottom_screw_frame"/>
    <child link="D435i_camera_link"/>
  </joint>
  <link name="D435i_camera_link">
    <inertial>
      <origin xyz="0.0 0.0 0.0" rpy="0 0 0"/>
      <mass value="0.564"/>
      <inertia ixx="0.003881243" ixy="0.0" ixz="0.0" iyy="0.00049894" iyz="0.0" izz="0.003879257"/>
    </inertial>
    <visual>
      <origin xyz="0.053 -0.0 0.0" rpy="1.570796326795 0.0 1.570796326795"/>
      <geometry>
        <mesh filename="package://centauro_urdf/meshes/realsense/d435.dae"/>
      </geometry>
      <material name="D435i_camera_aluminum"/>
    </visual>
    <collision>
      <origin xyz="0.0 -0.0 0.0" rpy="0.0 0.0 0.0"/>
      <geometry>
        <box size="0.02505 0.09 0.025"/>
      </geometry>
    </collision>
  </link>
  <link name="hip1_1">
    <inertial>
      <origin xyz="0.0003595855 0.033338818000000006 -0.059190309" rpy="0 0 0"/>
      <mass value="2.3349153"/>
      <inertia ixx="0.0068405374" ixy="1.8572633e-05" ixz="-4.8325972e-05" iyy="0.0026261815" iyz="0.0001564273" izz="0.0066933354"/>
    </inertial>
    <visual>
      <origin xyz="0.0 0.0 0.0" rpy="0.0 0.0 0.0"/>
      <geometry>
        <mesh filename="package://centauro_urdf/meshes/v2/hip-yaw.stl" scale="0.001 -0.001 0.001"/>
      </geometry>
      <material name="dark_grey"/>
    </visual>
    <collision>
      <origin xyz="0.000123454 -0.011949659999999999 -0.0631367" rpy="-1.2794257859148763 0.011059385729693427 -0.008229300412466476"/>
      <geometry>
        <cylinder radius="0.0747223" length="0.03069545889898954"/>
      </geometry>
    </collision>
    <collision>
      <origin xyz="-0.000046 -0.026650 -0.067545" rpy="-1.2794257859148763 0.011059385729693427 -0.008229300412466476"/>
      <geometry>
        <sphere radius="0.0747223"/>
      </geometry>
    </collision>
    <collision>
      <origin xyz="0.000293 0.002750 -0.058728" rpy="-1.2794257859148763 0.011059385729693427 -0.008229300412466476"/>
      <geometry>
        <sphere radius="0.0747223"/>
      </geometry>
    </collision>
  </link>
  <link name="hip2_1">
    <inertial>
      <origin xyz="-4.6285952e-06 -0.2214019 0.03316685" rpy="0 0 0"/>
      <mass value="3.4572118"/>
      <inertia ixx="0.050469853" ixy="-7.784938699999999e-06" ixz="-9.220580999999999e-06" iyy="0.008181596999999999" iyz="0.0059796848" izz="0.048213808999999996"/>
    </inertial>
    <visual>
      <origin xyz="0.0 0.0 0.0" rpy="0.0 0.0 0.0"/>
      <geometry>
        <mesh filename="package://centauro_urdf/meshes/v2/hip-pitch.stl" scale="0.001 0.001 -0.001"/>
      </geometry>
    </visual>
    <collision>
      <origin xyz="1.10696985e-06 -0.13974034 0.0170087" rpy="-1.590922320366177 -7.24562306920002e-06 7.392935812695044e-06"/>
      <geometry>
        <cylinder radius="0.0808941" length="0.2919804521727749"/>
      </geometry>
    </collision>
    <collision>
      <origin xyz="0.000002 -0.285701 0.019947" rpy="-1.590922320366177 -7.24562306920002e-06 7.392935812695044e-06"/>
      <geometry>
        <sphere radius="0.0808941"/>
      </geometry>
    </collision>
    <collision>
      <origin xyz="0.000000 0.006220 0.014071" rpy="-1.590922320366177 -7.24562306920002e-06 7.392935812695044e-06"/>
      <geometry>
        <sphere radius="0.0808941"/>
      </geometry>
    </collision>
  </link>
  <link name="knee_1">
    <inertial>
      <origin xyz="0.00012063381 0.14620674 0.029740711000000003" rpy="0 0 0"/>
      <mass value="2.1199315"/>
      <inertia ixx="0.018426402999999997" ixy="2.8226635999999997e-05" ixz="-2.9204348e-05" iyy="0.0047685615" iyz="-0.002640771" izz="0.017793722"/>
    </inertial>
    <visual>
      <origin xyz="0.0 0.0 0.0" rpy="0.0 0.0 0.0"/>
      <geometry>
        <mesh filename="package://centauro_urdf/meshes/v2/knee.stl" scale="0.001 0.001 -0.001"/>
      </geometry>
      <material name="dark_grey"/>
    </visual>
    <collision>
      <origin xyz="-4.076516e-06 0.0958646315 0.014374499999999998" rpy="-1.6091143483828545 -4.051216032610466e-05 4.20950259773918e-05"/>
      <geometry>
        <cylinder radius="0.0664305" length="0.1927502246061244"/>
      </geometry>
    </collision>
    <collision>
      <origin xyz="-0.000000 -0.000440 0.018066" rpy="-1.6091143483828545 -4.051216032610466e-05 4.20950259773918e-05"/>
      <geometry>
        <sphere radius="0.0664305"/>
      </geometry>
    </collision>
    <collision>
      <origin xyz="-0.000008 0.192169 0.010682" rpy="-1.6091143483828545 -4.051216032610466e-05 4.20950259773918e-05"/>
      <geometry>
        <sphere radius="0.0664305"/>
      </geometry>
    </collision>
  </link>
  <link name="ankle1_1">
    <inertial>
      <origin xyz="0.00012360094 -0.06274712 -0.0049068453" rpy="0 0 0"/>
      <mass value="1.4023368"/>
      <inertia ixx="0.0049928829" ixy="5.762355699999999e-06" ixz="1.9606394e-05" iyy="0.0017621464" iyz="0.00045315091" izz="0.0048706328"/>
    </inertial>
    <visual>
      <origin xyz="0.0 0.0 0.0" rpy="0.0 0.0 0.0"/>
      <geometry>
        <mesh filename="package://centauro_urdf/meshes/v2/ankle-pitch.stl" scale="0.001 0.001 -0.001"/>
      </geometry>
    </visual>
    <collision>
      <origin xyz="-3.39946e-05 -0.0238355765 -1.2084000000000002e-05" rpy="1.5740621233399696 0.0004934392809863637 0.0004950533903306543"/>
      <geometry>
        <cylinder radius="0.0792379" length="0.049256315666076876"/>
      </geometry>
    </collision>
    <collision>
      <origin xyz="-0.000046 0.000792 0.000068" rpy="1.5740621233399696 0.0004934392809863637 0.0004950533903306543"/>
      <geometry>
        <sphere radius="0.0792379"/>
      </geometry>
    </collision>
    <collision>
      <origin xyz="-0.000022 -0.048464 -0.000093" rpy="1.5740621233399696 0.0004934392809863637 0.0004950533903306543"/>
      <geometry>
        <sphere radius="0.0792379"/>
      </geometry>
    </collision>
  </link>
  <link name="ankle2_1">
    <inertial>
      <origin xyz="0.0018496706 -0.00051322371 -0.06730924" rpy="0 0 0"/>
      <mass value="1.7656714"/>
      <inertia ixx="0.0073976286" ixy="9.7557687e-07" ixz="-0.0002295255" iyy="0.0054434358" iyz="3.6337754e-05" izz="0.0043055053"/>
    </inertial>
    <visual>
      <origin xyz="0.0 0.0 0.0" rpy="0.0 0.0 0.0"/>
      <geometry>
        <mesh filename="package://centauro_urdf/meshes/v2/ankle-yaw.stl" scale="0.001 -0.001 0.001"/>
      </geometry>
      <material name="dark_grey"/>
    </visual>
    <collision>
      <origin xyz="-1.177807e-05 -0.001827005 -0.0652808" rpy="3.1390989814835946 0.0002409935691509803 0.1926856017007952"/>
      <geometry>
        <cylinder radius="0.0813545" length="0.07370263129636398"/>
      </geometry>
    </collision>
    <collision>
      <origin xyz="-0.000021 -0.001735 -0.028430" rpy="3.1390989814835946 0.0002409935691509803 0.1926856017007952"/>
      <geometry>
        <sphere radius="0.0813545"/>
      </geometry>
    </collision>
    <collision>
      <origin xyz="-0.000003 -0.001919 -0.102132" rpy="3.1390989814835946 0.0002409935691509803 0.1926856017007952"/>
      <geometry>
        <sphere radius="0.0813545"/>
      </geometry>
    </collision>
  </link>
  <link name="wheel_1">
    <inertial>
      <origin xyz="0.0 0.0 -0.0031155904" rpy="0 0 0"/>
      <mass value="1.11164"/>
      <inertia ixx="0.0028174054" ixy="0.0" ixz="-0.0" iyy="0.0028175648" iyz="-0.0" izz="0.0041817161999999995"/>
    </inertial>
    <visual>
      <origin xyz="0.0 0.0 0.0" rpy="0.0 0.0 0.0"/>
      <geometry>
        <mesh filename="package://centauro_urdf/meshes/v2/wheel.stl" scale="0.001 0.001 -0.001"/>
      </geometry>
      <material name="black"/>
    </visual>
    <collision>
      <origin xyz="0.0 0.0 0.0" rpy="0.0 0.0 0.0"/>
      <geometry>
        <cylinder radius="0.078" length="0.11"/>
      </geometry>
    </collision>
    <collision>
      <origin xyz="0.000000 0.000000 -0.055000" rpy="0.0 0.0 0.0"/>
      <geometry>
        <sphere radius="0.078"/>
      </geometry>
    </collision>
    <collision>
      <origin xyz="0.000000 0.000000 0.055000" rpy="0.0 0.0 0.0"/>
      <geometry>
        <sphere radius="0.078"/>
      </geometry>
    </collision>
  </link>
  <link name="contact_1"/>
  <joint name="contact_joint_1" type="fixed">
    <origin xyz="0.0 0.0 -0.176" rpy="0.0 0.0 0.0"/>
    <parent link="ankle2_1"/>
    <child link="contact_1"/>
  </joint>
  <joint name="hip_yaw_1" type="revolute">
    <origin xyz="0.25 0.125 -0.056600000000000004" rpy="0.0 0.0 0.0"/>
    <axis xyz="0.0 0.0 -1.0"/>
    <parent link="pelvis"/>
    <child link="hip1_1"/>
    <limit effort="304.0" lower="-2.03" upper="2.51" velocity="8.8"/>
  </joint>
  <joint name="hip_pitch_1" type="revolute">
    <origin xyz="0.0 0.1146 -0.0625" rpy="1.57079632679 0.0 0.0"/>
    <axis xyz="0.0 0.0 -1.0"/>
    <parent link="hip1_1"/>
    <child link="hip2_1"/>
    <limit effort="304.0" lower="-2.0226" upper="2.02748" velocity="8.8"/>
  </joint>
  <joint name="knee_pitch_1" type="revolute">
    <origin xyz="0.0 -0.3 0.1182" rpy="3.14159265359 0.0 0.0"/>
    <axis xyz="0.0 0.0 -1.0"/>
    <parent link="hip2_1"/>
    <child link="knee_1"/>
    <limit effort="304.0" lower="-2.4056" upper="2.3994" velocity="8.8"/>
  </joint>
  <joint name="ankle_pitch_1" type="revolute">
    <origin xyz="0.0 0.2 0.10015" rpy="3.14159265359 0.0 0.0"/>
    <axis xyz="0.0 0.0 -1.0"/>
    <parent link="knee_1"/>
    <child link="ankle1_1"/>
    <limit effort="147.0" lower="-2.4056" upper="2.3184" velocity="8.1"/>
  </joint>
  <joint name="ankle_yaw_1" type="revolute">
    <origin xyz="0.0 -0.139 -0.00085" rpy="-1.57079632679 0.0 0.0"/>
    <axis xyz="0.0 0.0 -1.0"/>
    <parent link="ankle1_1"/>
    <child link="ankle2_1"/>
    <limit effort="35.0" lower="-2.5626" upper="2.5384" velocity="20.0"/>
  </joint>
  <joint name="j_wheel_1" type="continuous">
    <origin xyz="0.0 -0.0 -0.09834999999999999" rpy="1.57079632679 0.0 0.0"/>
    <axis xyz="0.0 0.0 -1.0"/>
    <parent link="ankle2_1"/>
    <child link="wheel_1"/>
    <limit effort="35.0" lower="0" upper="0" velocity="20.0"/>
  </joint>
  <link name="hip1_2">
    <inertial>
      <origin xyz="0.0003595855 -0.033338818000000006 -0.059190309" rpy="0 0 0"/>
      <mass value="2.3349153"/>
      <inertia ixx="0.0068405374" ixy="-1.8572633e-05" ixz="-4.8325972e-05" iyy="0.0026261815" iyz="-0.0001564273" izz="0.0066933354"/>
    </inertial>
    <visual>
      <origin xyz="0.0 0.0 0.0" rpy="0.0 0.0 0.0"/>
      <geometry>
        <mesh filename="package://centauro_urdf/meshes/v2/hip-yaw.stl" scale="0.001 0.001 0.001"/>
      </geometry>
      <material name="dark_grey"/>
    </visual>
    <collision>
      <origin xyz="0.000123454 0.011949659999999999 -0.0631367" rpy="1.2794257859148763 0.011059385729693427 0.008229300412466476"/>
      <geometry>
        <cylinder radius="0.0747223" length="0.03069545889898954"/>
      </geometry>
    </collision>
    <collision>
      <origin xyz="-0.000046 0.026650 -0.067545" rpy="1.2794257859148763 0.011059385729693427 0.008229300412466476"/>
      <geometry>
        <sphere radius="0.0747223"/>
      </geometry>
    </collision>
    <collision>
      <origin xyz="0.000293 -0.002750 -0.058728" rpy="1.2794257859148763 0.011059385729693427 0.008229300412466476"/>
      <geometry>
        <sphere radius="0.0747223"/>
      </geometry>
    </collision>
  </link>
  <link name="hip2_2">
    <inertial>
      <origin xyz="-4.6285952e-06 -0.2214019 -0.03316685" rpy="0 0 0"/>
      <mass value="3.4572118"/>
      <inertia ixx="0.050469853" ixy="-7.784938699999999e-06" ixz="9.220580999999999e-06" iyy="0.008181596999999999" iyz="-0.0059796848" izz="0.048213808999999996"/>
    </inertial>
    <visual>
      <origin xyz="0.0 0.0 0.0" rpy="0.0 0.0 0.0"/>
      <geometry>
        <mesh filename="package://centauro_urdf/meshes/v2/hip-pitch.stl" scale="0.001 0.001 0.001"/>
      </geometry>
    </visual>
    <collision>
      <origin xyz="1.10696985e-06 -0.13974034 -0.0170087" rpy="-1.5506703332236162 -7.245623069200021e-06 7.101245701440088e-06"/>
      <geometry>
        <cylinder radius="0.0808941" length="0.2919804521727749"/>
      </geometry>
    </collision>
    <collision>
      <origin xyz="0.000002 -0.285701 -0.019947" rpy="-1.5506703332236162 -7.245623069200021e-06 7.101245701440088e-06"/>
      <geometry>
        <sphere radius="0.0808941"/>
      </geometry>
    </collision>
    <collision>
      <origin xyz="0.000000 0.006220 -0.014071" rpy="-1.5506703332236162 -7.245623069200021e-06 7.101245701440088e-06"/>
      <geometry>
        <sphere radius="0.0808941"/>
      </geometry>
    </collision>
  </link>
  <link name="knee_2">
    <inertial>
      <origin xyz="0.00012063381 0.14620674 -0.029740711000000003" rpy="0 0 0"/>
      <mass value="2.1199315"/>
      <inertia ixx="0.018426402999999997" ixy="2.8226635999999997e-05" ixz="2.9204348e-05" iyy="0.0047685615" iyz="0.002640771" izz="0.017793722"/>
    </inertial>
    <visual>
      <origin xyz="0.0 0.0 0.0" rpy="0.0 0.0 0.0"/>
      <geometry>
        <mesh filename="package://centauro_urdf/meshes/v2/knee.stl" scale="0.001 0.001 0.001"/>
      </geometry>
      <material name="dark_grey"/>
    </visual>
    <collision>
      <origin xyz="-4.076516e-06 0.0958646315 -0.014374499999999998" rpy="-1.5324783052069388 -4.0512160326104654e-05 3.898881390804118e-05"/>
      <geometry>
        <cylinder radius="0.0664305" length="0.1927502246061244"/>
      </geometry>
    </collision>
    <collision>
      <origin xyz="-0.000000 -0.000440 -0.018066" rpy="-1.5324783052069388 -4.0512160326104654e-05 3.898881390804118e-05"/>
      <geometry>
        <sphere radius="0.0664305"/>
      </geometry>
    </collision>
    <collision>
      <origin xyz="-0.000008 0.192169 -0.010683" rpy="-1.5324783052069388 -4.0512160326104654e-05 3.898881390804118e-05"/>
      <geometry>
        <sphere radius="0.0664305"/>
      </geometry>
    </collision>
  </link>
  <link name="ankle1_2">
    <inertial>
      <origin xyz="0.00012360094 -0.06274712 0.0049068453" rpy="0 0 0"/>
      <mass value="1.4023368"/>
      <inertia ixx="0.0049928829" ixy="5.762355699999999e-06" ixz="-1.9606394e-05" iyy="0.0017621464" iyz="-0.00045315091" izz="0.0048706328"/>
    </inertial>
    <visual>
      <origin xyz="0.0 0.0 0.0" rpy="0.0 0.0 0.0"/>
      <geometry>
        <mesh filename="package://centauro_urdf/meshes/v2/ankle-pitch.stl" scale="0.001 0.001 0.001"/>
      </geometry>
    </visual>
    <collision>
      <origin xyz="2.260750000000002e-07 -0.020764664999999998 0.00010889250000000001" rpy="-1.5912124973162882 0.00029736394117794144 -0.00030349780205160657"/>
      <geometry>
        <cylinder radius="0.0781037" length="0.04788405128558378"/>
      </geometry>
    </collision>
    <collision>
      <origin xyz="-0.000007 -0.044702 0.000598" rpy="-1.5912124973162882 0.00029736394117794144 -0.00030349780205160657"/>
      <geometry>
        <sphere radius="0.0781037"/>
      </geometry>
    </collision>
    <collision>
      <origin xyz="0.000007 0.003172 -0.000380" rpy="-1.5912124973162882 0.00029736394117794144 -0.00030349780205160657"/>
      <geometry>
        <sphere radius="0.0781037"/>
      </geometry>
    </collision>
  </link>
  <link name="ankle2_2">
    <inertial>
      <origin xyz="0.0018496706 0.00051322371 -0.06730924" rpy="0 0 0"/>
      <mass value="1.7656714"/>
      <inertia ixx="0.0073976286" ixy="-9.7557687e-07" ixz="-0.0002295255" iyy="0.0054434358" iyz="-3.6337754e-05" izz="0.0043055053"/>
    </inertial>
    <visual>
      <origin xyz="0.0 0.0 0.0" rpy="0.0 0.0 0.0"/>
      <geometry>
        <mesh filename="package://centauro_urdf/meshes/v2/ankle-yaw.stl" scale="0.001 0.001 0.001"/>
      </geometry>
      <material name="dark_grey"/>
    </visual>
    <collision>
      <origin xyz="-1.177807e-05 0.001827005 -0.0652808" rpy="-3.1390989814835946 0.0002409935691509803 -0.1926856017007952"/>
      <geometry>
        <cylinder radius="0.0813545" length="0.07370263129636398"/>
      </geometry>
    </collision>
    <collision>
      <origin xyz="-0.000021 0.001735 -0.028430" rpy="-3.1390989814835946 0.0002409935691509803 -0.1926856017007952"/>
      <geometry>
        <sphere radius="0.0813545"/>
      </geometry>
    </collision>
    <collision>
      <origin xyz="-0.000003 0.001919 -0.102132" rpy="-3.1390989814835946 0.0002409935691509803 -0.1926856017007952"/>
      <geometry>
        <sphere radius="0.0813545"/>
      </geometry>
    </collision>
  </link>
  <link name="wheel_2">
    <inertial>
      <origin xyz="0.0 0.0 0.0031155904" rpy="0 0 0"/>
      <mass value="1.11164"/>
      <inertia ixx="0.0028174054" ixy="0.0" ixz="0.0" iyy="0.0028175648" iyz="0.0" izz="0.0041817161999999995"/>
    </inertial>
    <visual>
      <origin xyz="0.0 0.0 0.0" rpy="0.0 0.0 0.0"/>
      <geometry>
        <mesh filename="package://centauro_urdf/meshes/v2/wheel.stl" scale="0.001 0.001 0.001"/>
      </geometry>
      <material name="black"/>
    </visual>
    <collision>
      <origin xyz="0.0 0.0 0.0" rpy="0.0 0.0 0.0"/>
      <geometry>
        <cylinder radius="0.078" length="0.11"/>
      </geometry>
    </collision>
    <collision>
      <origin xyz="0.000000 0.000000 -0.055000" rpy="0.0 0.0 0.0"/>
      <geometry>
        <sphere radius="0.078"/>
      </geometry>
    </collision>
    <collision>
      <origin xyz="0.000000 0.000000 0.055000" rpy="0.0 0.0 0.0"/>
      <geometry>
        <sphere radius="0.078"/>
      </geometry>
    </collision>
  </link>
  <link name="contact_2"/>
  <joint name="contact_joint_2" type="fixed">
    <origin xyz="0.0 0.0 -0.176" rpy="0.0 0.0 0.0"/>
    <parent link="ankle2_2"/>
    <child link="contact_2"/>
  </joint>
  <joint name="hip_yaw_2" type="revolute">
    <origin xyz="0.25 -0.125 -0.056600000000000004" rpy="0.0 0.0 0.0"/>
    <axis xyz="0.0 0.0 -1.0"/>
    <parent link="pelvis"/>
    <child link="hip1_2"/>
    <limit effort="304.0" lower="-2.51" upper="2.03" velocity="8.8"/>
  </joint>
  <joint name="hip_pitch_2" type="revolute">
    <origin xyz="0.0 -0.1146 -0.0625" rpy="1.57079632679 0.0 0.0"/>
    <axis xyz="0.0 0.0 1.0"/>
    <parent link="hip1_2"/>
    <child link="hip2_2"/>
    <limit effort="304.0" lower="-2.0156" upper="2.0354" velocity="8.8"/>
  </joint>
  <joint name="knee_pitch_2" type="revolute">
    <origin xyz="0.0 -0.3 -0.1182" rpy="3.14159265359 0.0 0.0"/>
    <axis xyz="0.0 0.0 1.0"/>
    <parent link="hip2_2"/>
    <child link="knee_2"/>
    <limit effort="304.0" lower="-2.4006" upper="2.4034" velocity="8.8"/>
  </joint>
  <joint name="ankle_pitch_2" type="revolute">
    <origin xyz="0.0 0.2 -0.10015" rpy="3.14159265359 0.0 0.0"/>
    <axis xyz="0.0 0.0 1.0"/>
    <parent link="knee_2"/>
    <child link="ankle1_2"/>
    <limit effort="147.0" lower="-2.3266" upper="2.3914" velocity="8.1"/>
  </joint>
  <joint name="ankle_yaw_2" type="revolute">
    <origin xyz="0.0 -0.139 0.00085" rpy="-1.57079632679 0.0 0.0"/>
    <axis xyz="0.0 0.0 -1.0"/>
    <parent link="ankle1_2"/>
    <child link="ankle2_2"/>
    <limit effort="35.0" lower="-2.5546" upper="2.5484" velocity="20.0"/>
  </joint>
  <joint name="j_wheel_2" type="continuous">
    <origin xyz="0.0 0.0 -0.09834999999999999" rpy="1.57079632679 0.0 0.0"/>
    <axis xyz="0.0 0.0 1.0"/>
    <parent link="ankle2_2"/>
    <child link="wheel_2"/>
    <limit effort="35.0" lower="0" upper="0" velocity="20.0"/>
  </joint>
  <link name="hip1_3">
    <inertial>
      <origin xyz="0.0003595855 0.033338818000000006 -0.059190309" rpy="0 0 0"/>
      <mass value="2.3349153"/>
      <inertia ixx="0.0068405374" ixy="1.8572633e-05" ixz="-4.8325972e-05" iyy="0.0026261815" iyz="0.0001564273" izz="0.0066933354"/>
    </inertial>
    <visual>
      <origin xyz="0.0 0.0 0.0" rpy="0.0 0.0 0.0"/>
      <geometry>
        <mesh filename="package://centauro_urdf/meshes/v2/hip-yaw.stl" scale="0.001 -0.001 0.001"/>
      </geometry>
      <material name="dark_grey"/>
    </visual>
    <collision>
      <origin xyz="0.000123454 -0.011949659999999999 -0.0631367" rpy="-1.2794257859148763 0.011059385729693427 -0.008229300412466476"/>
      <geometry>
        <cylinder radius="0.0747223" length="0.03069545889898954"/>
      </geometry>
    </collision>
    <collision>
      <origin xyz="-0.000046 -0.026650 -0.067545" rpy="-1.2794257859148763 0.011059385729693427 -0.008229300412466476"/>
      <geometry>
        <sphere radius="0.0747223"/>
      </geometry>
    </collision>
    <collision>
      <origin xyz="0.000293 0.002750 -0.058728" rpy="-1.2794257859148763 0.011059385729693427 -0.008229300412466476"/>
      <geometry>
        <sphere radius="0.0747223"/>
      </geometry>
    </collision>
  </link>
  <link name="hip2_3">
    <inertial>
      <origin xyz="-4.6285952e-06 -0.2214019 0.03316685" rpy="0 0 0"/>
      <mass value="3.4572118"/>
      <inertia ixx="0.050469853" ixy="-7.784938699999999e-06" ixz="-9.220580999999999e-06" iyy="0.008181596999999999" iyz="0.0059796848" izz="0.048213808999999996"/>
    </inertial>
    <visual>
      <origin xyz="0.0 0.0 0.0" rpy="0.0 0.0 0.0"/>
      <geometry>
        <mesh filename="package://centauro_urdf/meshes/v2/hip-pitch.stl" scale="0.001 0.001 -0.001"/>
      </geometry>
    </visual>
    <collision>
      <origin xyz="1.10696985e-06 -0.13974034 0.0170087" rpy="-1.590922320366177 -7.24562306920002e-06 7.392935812695044e-06"/>
      <geometry>
        <cylinder radius="0.0808941" length="0.2919804521727749"/>
      </geometry>
    </collision>
    <collision>
      <origin xyz="0.000002 -0.285701 0.019947" rpy="-1.590922320366177 -7.24562306920002e-06 7.392935812695044e-06"/>
      <geometry>
        <sphere radius="0.0808941"/>
      </geometry>
    </collision>
    <collision>
      <origin xyz="0.000000 0.006220 0.014071" rpy="-1.590922320366177 -7.24562306920002e-06 7.392935812695044e-06"/>
      <geometry>
        <sphere radius="0.0808941"/>
      </geometry>
    </collision>
  </link>
  <link name="knee_3">
    <inertial>
      <origin xyz="0.00012063381 0.14620674 0.029740711000000003" rpy="0 0 0"/>
      <mass value="2.1199315"/>
      <inertia ixx="0.018426402999999997" ixy="2.8226635999999997e-05" ixz="-2.9204348e-05" iyy="0.0047685615" iyz="-0.002640771" izz="0.017793722"/>
    </inertial>
    <visual>
      <origin xyz="0.0 0.0 0.0" rpy="0.0 0.0 0.0"/>
      <geometry>
        <mesh filename="package://centauro_urdf/meshes/v2/knee.stl" scale="0.001 0.001 -0.001"/>
      </geometry>
      <material name="dark_grey"/>
    </visual>
    <collision>
      <origin xyz="-4.076516e-06 0.0958646315 0.014374499999999998" rpy="-1.6091143483828545 -4.051216032610466e-05 4.20950259773918e-05"/>
      <geometry>
        <cylinder radius="0.0664305" length="0.1927502246061244"/>
      </geometry>
    </collision>
    <collision>
      <origin xyz="-0.000000 -0.000440 0.018066" rpy="-1.6091143483828545 -4.051216032610466e-05 4.20950259773918e-05"/>
      <geometry>
        <sphere radius="0.0664305"/>
      </geometry>
    </collision>
    <collision>
      <origin xyz="-0.000008 0.192169 0.010682" rpy="-1.6091143483828545 -4.051216032610466e-05 4.20950259773918e-05"/>
      <geometry>
        <sphere radius="0.0664305"/>
      </geometry>
    </collision>
  </link>
  <link name="ankle1_3">
    <inertial>
      <origin xyz="0.00012360094 -0.06274712 -0.0049068453" rpy="0 0 0"/>
      <mass value="1.4023368"/>
      <inertia ixx="0.0049928829" ixy="5.762355699999999e-06" ixz="1.9606394e-05" iyy="0.0017621464" iyz="0.00045315091" izz="0.0048706328"/>
    </inertial>
    <visual>
      <origin xyz="0.0 0.0 0.0" rpy="0.0 0.0 0.0"/>
      <geometry>
        <mesh filename="package://centauro_urdf/meshes/v2/ankle-pitch.stl" scale="0.001 0.001 -0.001"/>
      </geometry>
    </visual>
    <collision>
      <origin xyz="-3.39946e-05 -0.0238355765 -1.2084000000000002e-05" rpy="1.5740621233399696 0.0004934392809863637 0.0004950533903306543"/>
      <geometry>
        <cylinder radius="0.0792379" length="0.049256315666076876"/>
      </geometry>
    </collision>
    <collision>
      <origin xyz="-0.000046 0.000792 0.000068" rpy="1.5740621233399696 0.0004934392809863637 0.0004950533903306543"/>
      <geometry>
        <sphere radius="0.0792379"/>
      </geometry>
    </collision>
    <collision>
      <origin xyz="-0.000022 -0.048464 -0.000093" rpy="1.5740621233399696 0.0004934392809863637 0.0004950533903306543"/>
      <geometry>
        <sphere radius="0.0792379"/>
      </geometry>
    </collision>
  </link>
  <link name="ankle2_3">
    <inertial>
      <origin xyz="0.0018496706 -0.00051322371 -0.06730924" rpy="0 0 0"/>
      <mass value="1.7656714"/>
      <inertia ixx="0.0073976286" ixy="9.7557687e-07" ixz="-0.0002295255" iyy="0.0054434358" iyz="3.6337754e-05" izz="0.0043055053"/>
    </inertial>
    <visual>
      <origin xyz="0.0 0.0 0.0" rpy="0.0 0.0 0.0"/>
      <geometry>
        <mesh filename="package://centauro_urdf/meshes/v2/ankle-yaw.stl" scale="0.001 -0.001 0.001"/>
      </geometry>
      <material name="dark_grey"/>
    </visual>
    <collision>
      <origin xyz="-1.177807e-05 -0.001827005 -0.0652808" rpy="3.1390989814835946 0.0002409935691509803 0.1926856017007952"/>
      <geometry>
        <cylinder radius="0.0813545" length="0.07370263129636398"/>
      </geometry>
    </collision>
    <collision>
      <origin xyz="-0.000021 -0.001735 -0.028430" rpy="3.1390989814835946 0.0002409935691509803 0.1926856017007952"/>
      <geometry>
        <sphere radius="0.0813545"/>
      </geometry>
    </collision>
    <collision>
      <origin xyz="-0.000003 -0.001919 -0.102132" rpy="3.1390989814835946 0.0002409935691509803 0.1926856017007952"/>
      <geometry>
        <sphere radius="0.0813545"/>
      </geometry>
    </collision>
  </link>
  <link name="wheel_3">
    <inertial>
      <origin xyz="0.0 0.0 -0.0031155904" rpy="0 0 0"/>
      <mass value="1.11164"/>
      <inertia ixx="0.0028174054" ixy="0.0" ixz="-0.0" iyy="0.0028175648" iyz="-0.0" izz="0.0041817161999999995"/>
    </inertial>
    <visual>
      <origin xyz="0.0 0.0 0.0" rpy="0.0 0.0 0.0"/>
      <geometry>
        <mesh filename="package://centauro_urdf/meshes/v2/wheel.stl" scale="0.001 0.001 -0.001"/>
      </geometry>
      <material name="black"/>
    </visual>
    <collision>
      <origin xyz="0.0 0.0 0.0" rpy="0.0 0.0 0.0"/>
      <geometry>
        <cylinder radius="0.078" length="0.11"/>
      </geometry>
    </collision>
    <collision>
      <origin xyz="0.000000 0.000000 -0.055000" rpy="0.0 0.0 0.0"/>
      <geometry>
        <sphere radius="0.078"/>
      </geometry>
    </collision>
    <collision>
      <origin xyz="0.000000 0.000000 0.055000" rpy="0.0 0.0 0.0"/>
      <geometry>
        <sphere radius="0.078"/>
      </geometry>
    </collision>
  </link>
  <link name="contact_3"/>
  <joint name="contact_joint_3" type="fixed">
    <origin xyz="0.0 0.0 -0.176" rpy="0.0 0.0 0.0"/>
    <parent link="ankle2_3"/>
    <child link="contact_3"/>
  </joint>
  <joint name="hip_yaw_3" type="revolute">
    <origin xyz="-0.25 0.125 -0.056600000000000004" rpy="0.0 0.0 0.0"/>
    <axis xyz="0.0 0.0 -1.0"/>
    <parent link="pelvis"/>
    <child link="hip1_3"/>
    <limit effort="304.0" lower="-2.51" upper="2.03" velocity="8.8"/>
  </joint>
  <joint name="hip_pitch_3" type="revolute">
    <origin xyz="0.0 0.1146 -0.0625" rpy="1.57079632679 0.0 0.0"/>
    <axis xyz="0.0 0.0 -1.0"/>
    <parent link="hip1_3"/>
    <child link="hip2_3"/>
    <limit effort="304.0" lower="-2.0126" upper="2.0384" velocity="8.8"/>
  </joint>
  <joint name="knee_pitch_3" type="revolute">
    <origin xyz="0.0 -0.3 0.1182" rpy="3.14159265359 0.0 0.0"/>
    <axis xyz="0.0 0.0 -1.0"/>
    <parent link="hip2_3"/>
    <child link="knee_3"/>
    <limit effort="304.0" lower="-2.4056" upper="2.4064" velocity="8.8"/>
  </joint>
  <joint name="ankle_pitch_3" type="revolute">
    <origin xyz="0.0 0.2 0.10015" rpy="3.14159265359 0.0 0.0"/>
    <axis xyz="0.0 0.0 -1.0"/>
    <parent link="knee_3"/>
    <child link="ankle1_3"/>
    <limit effort="147.0" lower="-2.4696" upper="2.4464" velocity="8.1"/>
  </joint>
  <joint name="ankle_yaw_3" type="revolute">
    <origin xyz="0.0 -0.139 -0.00085" rpy="-1.57079632679 0.0 0.0"/>
    <axis xyz="0.0 0.0 -1.0"/>
    <parent link="ankle1_3"/>
    <child link="ankle2_3"/>
    <limit effort="35.0" lower="-2.5606" upper="2.5454" velocity="20.0"/>
  </joint>
  <joint name="j_wheel_3" type="continuous">
    <origin xyz="0.0 -0.0 -0.09834999999999999" rpy="1.57079632679 0.0 0.0"/>
    <axis xyz="0.0 0.0 -1.0"/>
    <parent link="ankle2_3"/>
    <child link="wheel_3"/>
    <limit effort="35.0" lower="0" upper="0" velocity="20.0"/>
  </joint>
  <link name="hip1_4">
    <inertial>
      <origin xyz="0.0003595855 -0.033338818000000006 -0.059190309" rpy="0 0 0"/>
      <mass value="2.3349153"/>
      <inertia ixx="0.0068405374" ixy="-1.8572633e-05" ixz="-4.8325972e-05" iyy="0.0026261815" iyz="-0.0001564273" izz="0.0066933354"/>
    </inertial>
    <visual>
      <origin xyz="0.0 0.0 0.0" rpy="0.0 0.0 0.0"/>
      <geometry>
        <mesh filename="package://centauro_urdf/meshes/v2/hip-yaw.stl" scale="0.001 0.001 0.001"/>
      </geometry>
      <material name="dark_grey"/>
    </visual>
    <collision>
      <origin xyz="0.000123454 0.011949659999999999 -0.0631367" rpy="1.2794257859148763 0.011059385729693427 0.008229300412466476"/>
      <geometry>
        <cylinder radius="0.0747223" length="0.03069545889898954"/>
      </geometry>
    </collision>
    <collision>
      <origin xyz="-0.000046 0.026650 -0.067545" rpy="1.2794257859148763 0.011059385729693427 0.008229300412466476"/>
      <geometry>
        <sphere radius="0.0747223"/>
      </geometry>
    </collision>
    <collision>
      <origin xyz="0.000293 -0.002750 -0.058728" rpy="1.2794257859148763 0.011059385729693427 0.008229300412466476"/>
      <geometry>
        <sphere radius="0.0747223"/>
      </geometry>
    </collision>
  </link>
  <link name="hip2_4">
    <inertial>
      <origin xyz="-4.6285952e-06 -0.2214019 -0.03316685" rpy="0 0 0"/>
      <mass value="3.4572118"/>
      <inertia ixx="0.050469853" ixy="-7.784938699999999e-06" ixz="9.220580999999999e-06" iyy="0.008181596999999999" iyz="-0.0059796848" izz="0.048213808999999996"/>
    </inertial>
    <visual>
      <origin xyz="0.0 0.0 0.0" rpy="0.0 0.0 0.0"/>
      <geometry>
        <mesh filename="package://centauro_urdf/meshes/v2/hip-pitch.stl" scale="0.001 0.001 0.001"/>
      </geometry>
    </visual>
    <collision>
      <origin xyz="1.10696985e-06 -0.13974034 -0.0170087" rpy="-1.5506703332236162 -7.245623069200021e-06 7.101245701440088e-06"/>
      <geometry>
        <cylinder radius="0.0808941" length="0.2919804521727749"/>
      </geometry>
    </collision>
    <collision>
      <origin xyz="0.000002 -0.285701 -0.019947" rpy="-1.5506703332236162 -7.245623069200021e-06 7.101245701440088e-06"/>
      <geometry>
        <sphere radius="0.0808941"/>
      </geometry>
    </collision>
    <collision>
      <origin xyz="0.000000 0.006220 -0.014071" rpy="-1.5506703332236162 -7.245623069200021e-06 7.101245701440088e-06"/>
      <geometry>
        <sphere radius="0.0808941"/>
      </geometry>
    </collision>
  </link>
  <link name="knee_4">
    <inertial>
      <origin xyz="0.00012063381 0.14620674 -0.029740711000000003" rpy="0 0 0"/>
      <mass value="2.1199315"/>
      <inertia ixx="0.018426402999999997" ixy="2.8226635999999997e-05" ixz="2.9204348e-05" iyy="0.0047685615" iyz="0.002640771" izz="0.017793722"/>
    </inertial>
    <visual>
      <origin xyz="0.0 0.0 0.0" rpy="0.0 0.0 0.0"/>
      <geometry>
        <mesh filename="package://centauro_urdf/meshes/v2/knee.stl" scale="0.001 0.001 0.001"/>
      </geometry>
      <material name="dark_grey"/>
    </visual>
    <collision>
      <origin xyz="-4.076516e-06 0.0958646315 -0.014374499999999998" rpy="-1.5324783052069388 -4.0512160326104654e-05 3.898881390804118e-05"/>
      <geometry>
        <cylinder radius="0.0664305" length="0.1927502246061244"/>
      </geometry>
    </collision>
    <collision>
      <origin xyz="-0.000000 -0.000440 -0.018066" rpy="-1.5324783052069388 -4.0512160326104654e-05 3.898881390804118e-05"/>
      <geometry>
        <sphere radius="0.0664305"/>
      </geometry>
    </collision>
    <collision>
      <origin xyz="-0.000008 0.192169 -0.010683" rpy="-1.5324783052069388 -4.0512160326104654e-05 3.898881390804118e-05"/>
      <geometry>
        <sphere radius="0.0664305"/>
      </geometry>
    </collision>
  </link>
  <link name="ankle1_4">
    <inertial>
      <origin xyz="0.00012360094 -0.06274712 0.0049068453" rpy="0 0 0"/>
      <mass value="1.4023368"/>
      <inertia ixx="0.0049928829" ixy="5.762355699999999e-06" ixz="-1.9606394e-05" iyy="0.0017621464" iyz="-0.00045315091" izz="0.0048706328"/>
    </inertial>
    <visual>
      <origin xyz="0.0 0.0 0.0" rpy="0.0 0.0 0.0"/>
      <geometry>
        <mesh filename="package://centauro_urdf/meshes/v2/ankle-pitch.stl" scale="0.001 0.001 0.001"/>
      </geometry>
    </visual>
    <collision>
      <origin xyz="2.260750000000002e-07 -0.020764664999999998 0.00010889250000000001" rpy="-1.5912124973162882 0.00029736394117794144 -0.00030349780205160657"/>
      <geometry>
        <cylinder radius="0.0781037" length="0.04788405128558378"/>
      </geometry>
    </collision>
    <collision>
      <origin xyz="-0.000007 -0.044702 0.000598" rpy="-1.5912124973162882 0.00029736394117794144 -0.00030349780205160657"/>
      <geometry>
        <sphere radius="0.0781037"/>
      </geometry>
    </collision>
    <collision>
      <origin xyz="0.000007 0.003172 -0.000380" rpy="-1.5912124973162882 0.00029736394117794144 -0.00030349780205160657"/>
      <geometry>
        <sphere radius="0.0781037"/>
      </geometry>
    </collision>
  </link>
  <link name="ankle2_4">
    <inertial>
      <origin xyz="0.0018496706 0.00051322371 -0.06730924" rpy="0 0 0"/>
      <mass value="1.7656714"/>
      <inertia ixx="0.0073976286" ixy="-9.7557687e-07" ixz="-0.0002295255" iyy="0.0054434358" iyz="-3.6337754e-05" izz="0.0043055053"/>
    </inertial>
    <visual>
      <origin xyz="0.0 0.0 0.0" rpy="0.0 0.0 0.0"/>
      <geometry>
        <mesh filename="package://centauro_urdf/meshes/v2/ankle-yaw.stl" scale="0.001 0.001 0.001"/>
      </geometry>
      <material name="dark_grey"/>
    </visual>
    <collision>
      <origin xyz="-1.177807e-05 0.001827005 -0.0652808" rpy="-3.1390989814835946 0.0002409935691509803 -0.1926856017007952"/>
      <geometry>
        <cylinder radius="0.0813545" length="0.07370263129636398"/>
      </geometry>
    </collision>
    <collision>
      <origin xyz="-0.000021 0.001735 -0.028430" rpy="-3.1390989814835946 0.0002409935691509803 -0.1926856017007952"/>
      <geometry>
        <sphere radius="0.0813545"/>
      </geometry>
    </collision>
    <collision>
      <origin xyz="-0.000003 0.001919 -0.102132" rpy="-3.1390989814835946 0.0002409935691509803 -0.1926856017007952"/>
      <geometry>
        <sphere radius="0.0813545"/>
      </geometry>
    </collision>
  </link>
  <link name="wheel_4">
    <inertial>
      <origin xyz="0.0 0.0 0.0031155904" rpy="0 0 0"/>
      <mass value="1.11164"/>
      <inertia ixx="0.0028174054" ixy="0.0" ixz="0.0" iyy="0.0028175648" iyz="0.0" izz="0.0041817161999999995"/>
    </inertial>
    <visual>
      <origin xyz="0.0 0.0 0.0" rpy="0.0 0.0 0.0"/>
      <geometry>
        <mesh filename="package://centauro_urdf/meshes/v2/wheel.stl" scale="0.001 0.001 0.001"/>
      </geometry>
      <material name="black"/>
    </visual>
    <collision>
      <origin xyz="0.0 0.0 0.0" rpy="0.0 0.0 0.0"/>
      <geometry>
        <cylinder radius="0.078" length="0.11"/>
      </geometry>
    </collision>
    <collision>
      <origin xyz="0.000000 0.000000 -0.055000" rpy="0.0 0.0 0.0"/>
      <geometry>
        <sphere radius="0.078"/>
      </geometry>
    </collision>
    <collision>
      <origin xyz="0.000000 0.000000 0.055000" rpy="0.0 0.0 0.0"/>
      <geometry>
        <sphere radius="0.078"/>
      </geometry>
    </collision>
  </link>
  <link name="contact_4"/>
  <joint name="contact_joint_4" type="fixed">
    <origin xyz="0.0 0.0 -0.176" rpy="0.0 0.0 0.0"/>
    <parent link="ankle2_4"/>
    <child link="contact_4"/>
  </joint>
  <joint name="hip_yaw_4" type="revolute">
    <origin xyz="-0.25 -0.125 -0.056600000000000004" rpy="0.0 0.0 0.0"/>
    <axis xyz="0.0 0.0 -1.0"/>
    <parent link="pelvis"/>
    <child link="hip1_4"/>
    <limit effort="304.0" lower="-2.03" upper="2.51" velocity="8.8"/>
  </joint>
  <joint name="hip_pitch_4" type="revolute">
    <origin xyz="0.0 -0.1146 -0.0625" rpy="1.57079632679 0.0 0.0"/>
    <axis xyz="0.0 0.0 1.0"/>
    <parent link="hip1_4"/>
    <child link="hip2_4"/>
    <limit effort="304.0" lower="-2.0326" upper="2.0524" velocity="8.8"/>
  </joint>
  <joint name="knee_pitch_4" type="revolute">
    <origin xyz="0.0 -0.3 -0.1182" rpy="3.14159265359 0.0 0.0"/>
    <axis xyz="0.0 0.0 1.0"/>
    <parent link="hip2_4"/>
    <child link="knee_4"/>
    <limit effort="304.0" lower="-2.4176" upper="2.3884" velocity="8.8"/>
  </joint>
  <joint name="ankle_pitch_4" type="revolute">
    <origin xyz="0.0 0.2 -0.10015" rpy="3.14159265359 0.0 0.0"/>
    <axis xyz="0.0 0.0 1.0"/>
    <parent link="knee_4"/>
    <child link="ankle1_4"/>
    <limit effort="147.0" lower="-2.3426" upper="2.3934" velocity="8.1"/>
  </joint>
  <joint name="ankle_yaw_4" type="revolute">
    <origin xyz="0.0 -0.139 0.00085" rpy="-1.57079632679 0.0 0.0"/>
    <axis xyz="0.0 0.0 -1.0"/>
    <parent link="ankle1_4"/>
    <child link="ankle2_4"/>
    <limit effort="35.0" lower="-2.6046" upper="2.5514" velocity="20.0"/>
  </joint>
  <joint name="j_wheel_4" type="continuous">
    <origin xyz="0.0 0.0 -0.09834999999999999" rpy="1.57079632679 0.0 0.0"/>
    <axis xyz="0.0 0.0 1.0"/>
    <parent link="ankle2_4"/>
    <child link="wheel_4"/>
    <limit effort="35.0" lower="0" upper="0" velocity="20.0"/>
  </joint>
  <link name="world"/>
  <joint name="reference" type="floating">
    <parent link="world"/>
    <child link="pelvis"/>
  </joint>
  <joint name="car_frame_tx" type="prismatic">
    <origin xyz="0.0 0.0 0.0" rpy="0 0 0"/>
    <axis xyz="1.0 0.0 0.0"/>
    <parent link="pelvis"/>
    <child link="car_frame_intermediate_1"/>
    <limit effort="1000.0" lower="-1000000000.0" upper="1000000000.0" velocity="10.0"/>
  </joint>
  <link name="car_frame_intermediate_1">
    <inertial>
      <mass value="0.0"/>
      <inertia ixx="0.0" ixy="0.0" ixz="0.0" iyy="0.0" iyz="0.0" izz="0.0"/>
    </inertial>
  </link>
  <joint name="car_frame_ty" type="prismatic">
    <origin xyz="0.0 0.0 0.0" rpy="0 0 0"/>
    <axis xyz="0.0 1.0 0.0"/>
    <parent link="car_frame_intermediate_1"/>
    <child link="car_frame_intermediate_2"/>
    <limit effort="1000.0" lower="-1000000000.0" upper="1000000000.0" velocity="10.0"/>
  </joint>
  <link name="car_frame_intermediate_2">
    <inertial>
      <mass value="0.0"/>
      <inertia ixx="0.0" ixy="0.0" ixz="0.0" iyy="0.0" iyz="0.0" izz="0.0"/>
    </inertial>
  </link>
  <joint name="car_frame_tz" type="prismatic">
    <origin xyz="0.0 0.0 0.0" rpy="0 0 0"/>
    <axis xyz="0.0 0.0 1.0"/>
    <parent link="car_frame_intermediate_2"/>
    <child link="car_frame_intermediate_3"/>
    <limit effort="1000.0" lower="-1000000000.0" upper="1000000000.0" velocity="10.0"/>
  </joint>
  <link name="car_frame_intermediate_3">
    <inertial>
      <mass value="0.0"/>
      <inertia ixx="0.0" ixy="0.0" ixz="0.0" iyy="0.0" iyz="0.0" izz="0.0"/>
    </inertial>
  </link>
  <joint name="car_frame_rx" type="revolute">
    <origin xyz="0.0 0.0 0.0" rpy="0 0 0"/>
    <axis xyz="1.0 0.0 0.0"/>
    <parent link="car_frame_intermediate_3"/>
    <child link="car_frame_intermediate_4"/>
    <limit effort="1000.0" lower="-1000000000.0" upper="1000000000.0" velocity="10.0"/>
  </joint>
  <link name="car_frame_intermediate_4">
    <inertial>
      <mass value="0.0"/>
      <inertia ixx="0.0" ixy="0.0" ixz="0.0" iyy="0.0" iyz="0.0" izz="0.0"/>
    </inertial>
  </link>
  <joint name="car_frame_ry" type="revolute">
    <origin xyz="0.0 0.0 0.0" rpy="0 0 0"/>
    <axis xyz="0.0 1.0 0.0"/>
    <parent link="car_frame_intermediate_4"/>
    <child link="car_frame_intermediate_5"/>
    <limit effort="1000.0" lower="-1000000000.0" upper="1000000000.0" velocity="10.0"/>
  </joint>
  <link name="car_frame_intermediate_5">
    <inertial>
      <mass value="0.0"/>
      <inertia ixx="0.0" ixy="0.0" ixz="0.0" iyy="0.0" iyz="0.0" izz="0.0"/>
    </inertial>
  </link>
  <joint name="car_frame_rz" type="revolute">
    <origin xyz="0.0 0.0 0.0" rpy="0 0 0"/>
    <axis xyz="0.0 0.0 1.0"/>
    <parent link="car_frame_intermediate_5"/>
    <child link="car_frame"/>
    <limit effort="1000.0" lower="-1000000000.0" upper="1000000000.0" velocity="10.0"/>
  </joint>
  <link name="car_frame">
    <inertial>
      <mass value="0.0"/>
      <inertia ixx="0.0" ixy="0.0" ixz="0.0" iyy="0.0" iyz="0.0" izz="0.0"/>
    </inertial>
  </link>
</robot>
